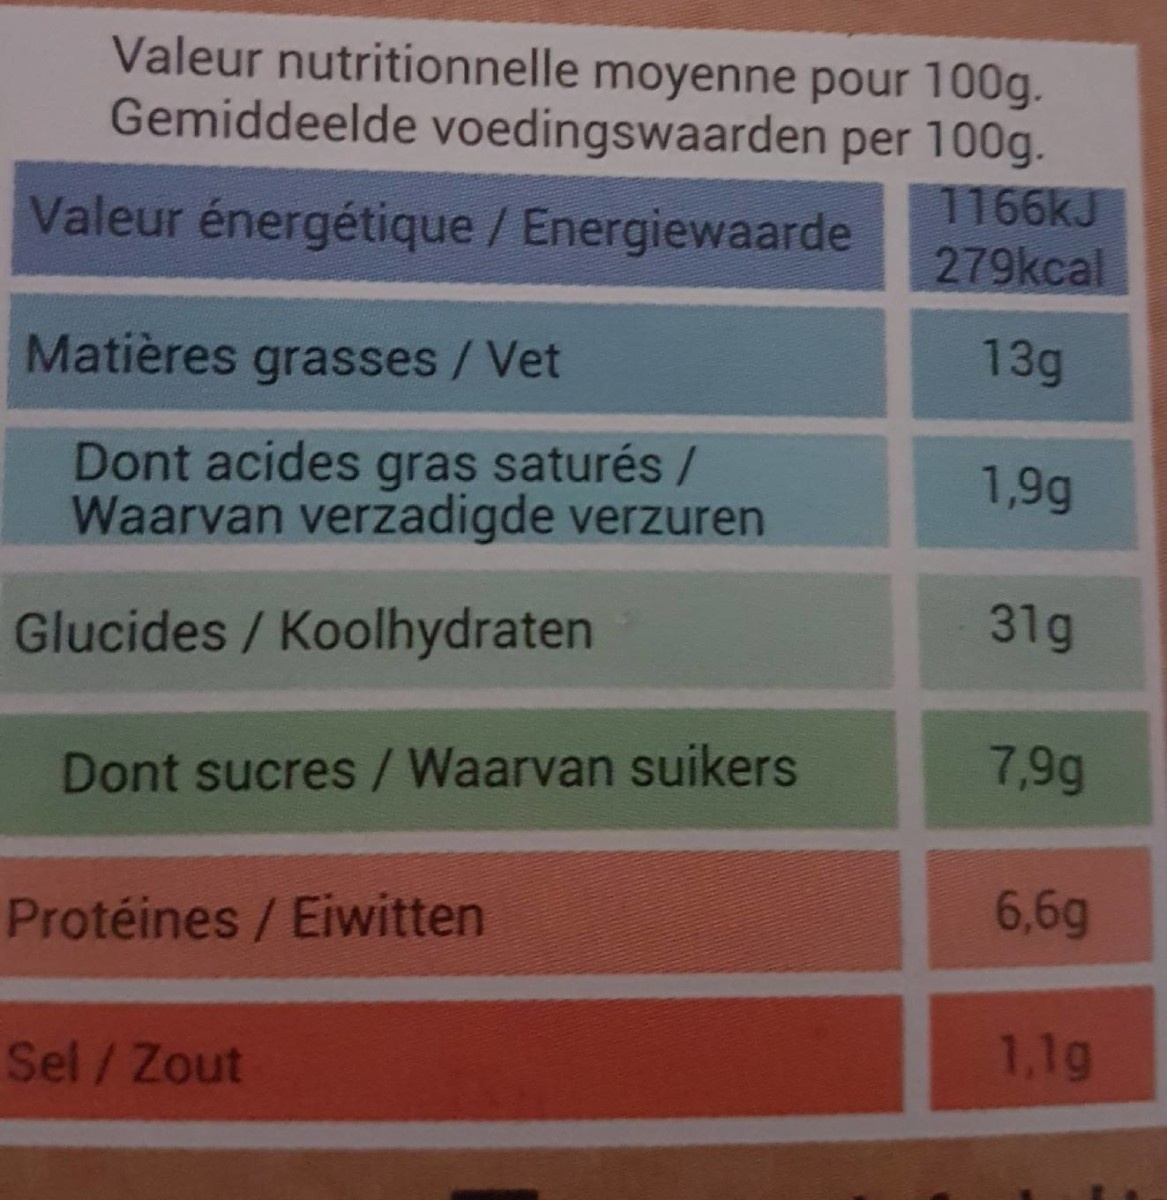column: (11, 164, 861, 1127), (932, 184, 1109, 1116)
table: (2, 4, 1167, 1156)
